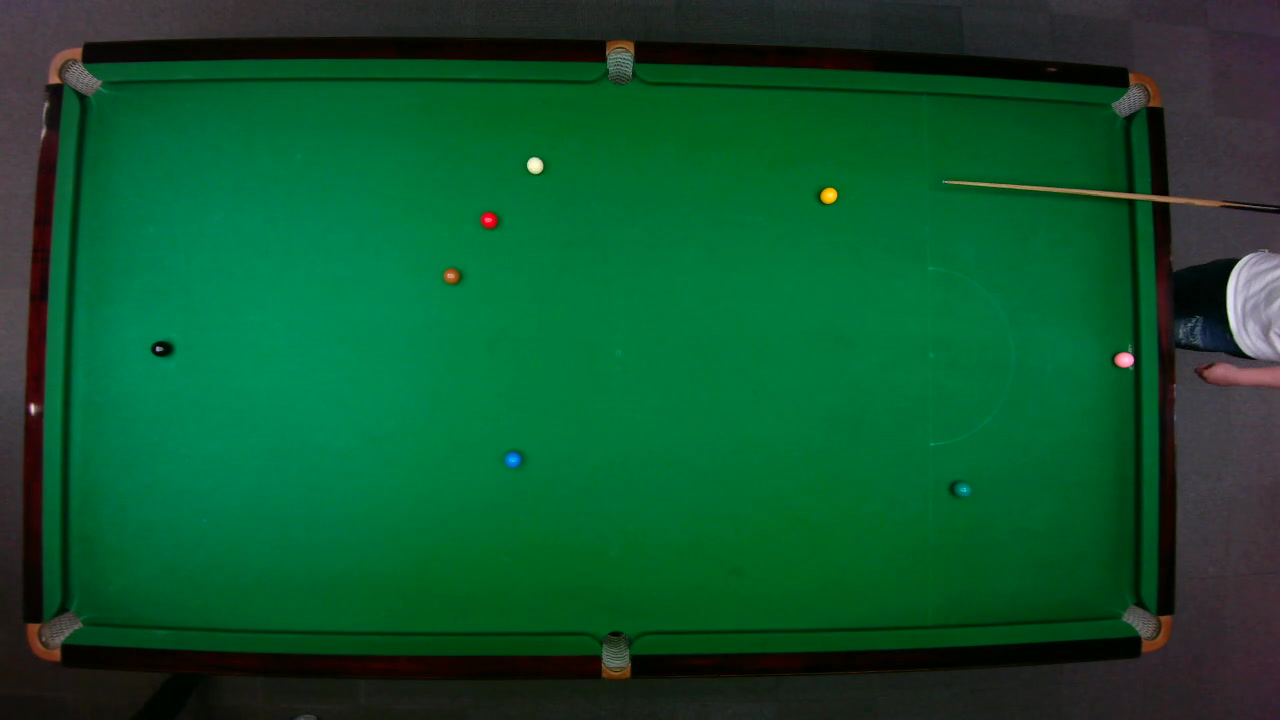bag: (24, 609, 84, 661), (45, 46, 102, 96), (1119, 603, 1172, 652), (1109, 71, 1161, 118), (600, 629, 629, 680), (605, 38, 633, 85)
black: (149, 339, 171, 357)
blue: (504, 449, 523, 468)
brown: (442, 267, 460, 284)
cue: (941, 178, 1280, 216)
green: (950, 480, 972, 497)
pink: (1112, 350, 1135, 368)
red: (479, 210, 498, 228)
white: (525, 155, 544, 174)
yellow: (818, 185, 838, 204)
zone: (927, 266, 1014, 445)
